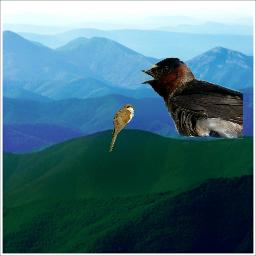Cuckoo: (109, 104, 135, 152)
Swallow: (139, 57, 243, 139)
